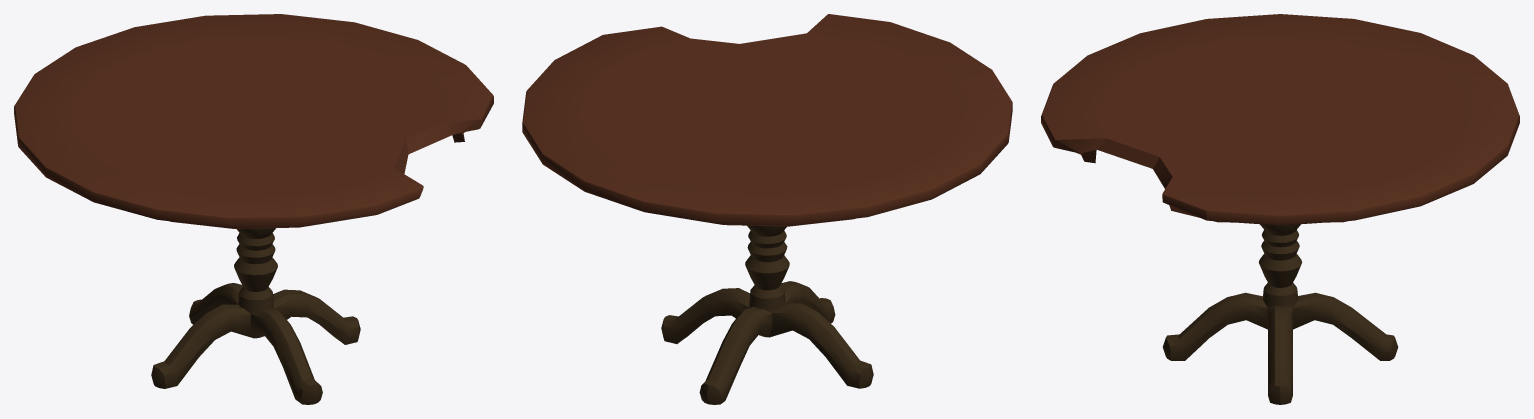
File: Tisch.fbx
3 renders of one model, left to right at view 1: azimuth 30°, elevation 25°; view 2: azimuth 150°, elevation 25°; view 3: azimuth 270°, elevation 25°, orthographic. The views are drawn at different scales.
Visible parts, largest first — view 1: table_broken_lp; view 2: table_broken_lp; view 3: table_broken_lp.
Boxes of the visible parts, x1,y1,x2,y2 form: table_broken_lp: (14, 14, 493, 404); table_broken_lp: (522, 14, 1012, 404); table_broken_lp: (1041, 14, 1519, 404).
Bounding box in the file's own units: 230 × 129 × 230.
